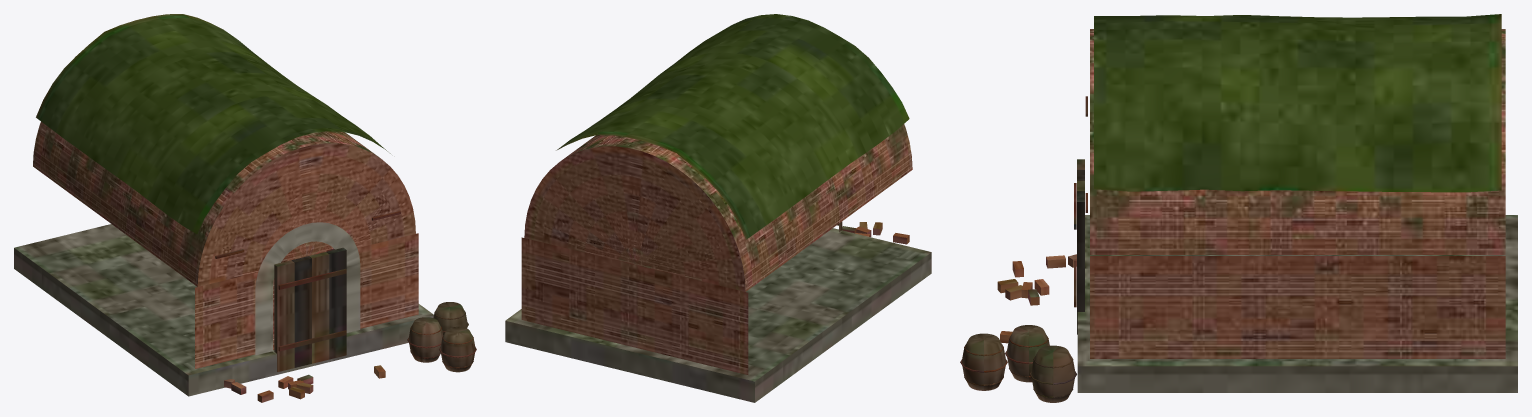
File: starfort_powder_store_hero.glb
3 renders of one model, left to right at view 1: azimuth 30°, elevation 25°; view 2: azimuth 150°, elevation 25°; view 3: azimuth 270°, elevation 25°, orthographic. The views are drawn at different scales.
Parts seen in each view (by area): view 1: intact, door, barrel_03, barrel_01, cracked, barrel_02; view 2: intact, cracked; view 3: intact, barrel_02, barrel_03, barrel_01, door, cracked.
Boxes of the visible parts, x1,y1,x2,y2 form: intact: (14,14,433,396); door: (274,247,346,371); barrel_03: (439,326,476,372); barrel_01: (407,317,443,362); cracked: (231,365,385,402); barrel_02: (433,302,468,334); intact: (505,14,931,402); cracked: (842,222,909,244); intact: (1077,14,1517,392); barrel_02: (1029,345,1076,402); barrel_03: (960,333,1007,390); barrel_01: (1005,325,1049,382); door: (1074,159,1084,334); cracked: (997,255,1065,343).
Size of what is drawn, in the model's own units: 4.79 by 3.88 by 6.84.
1 material, 1 textured.
